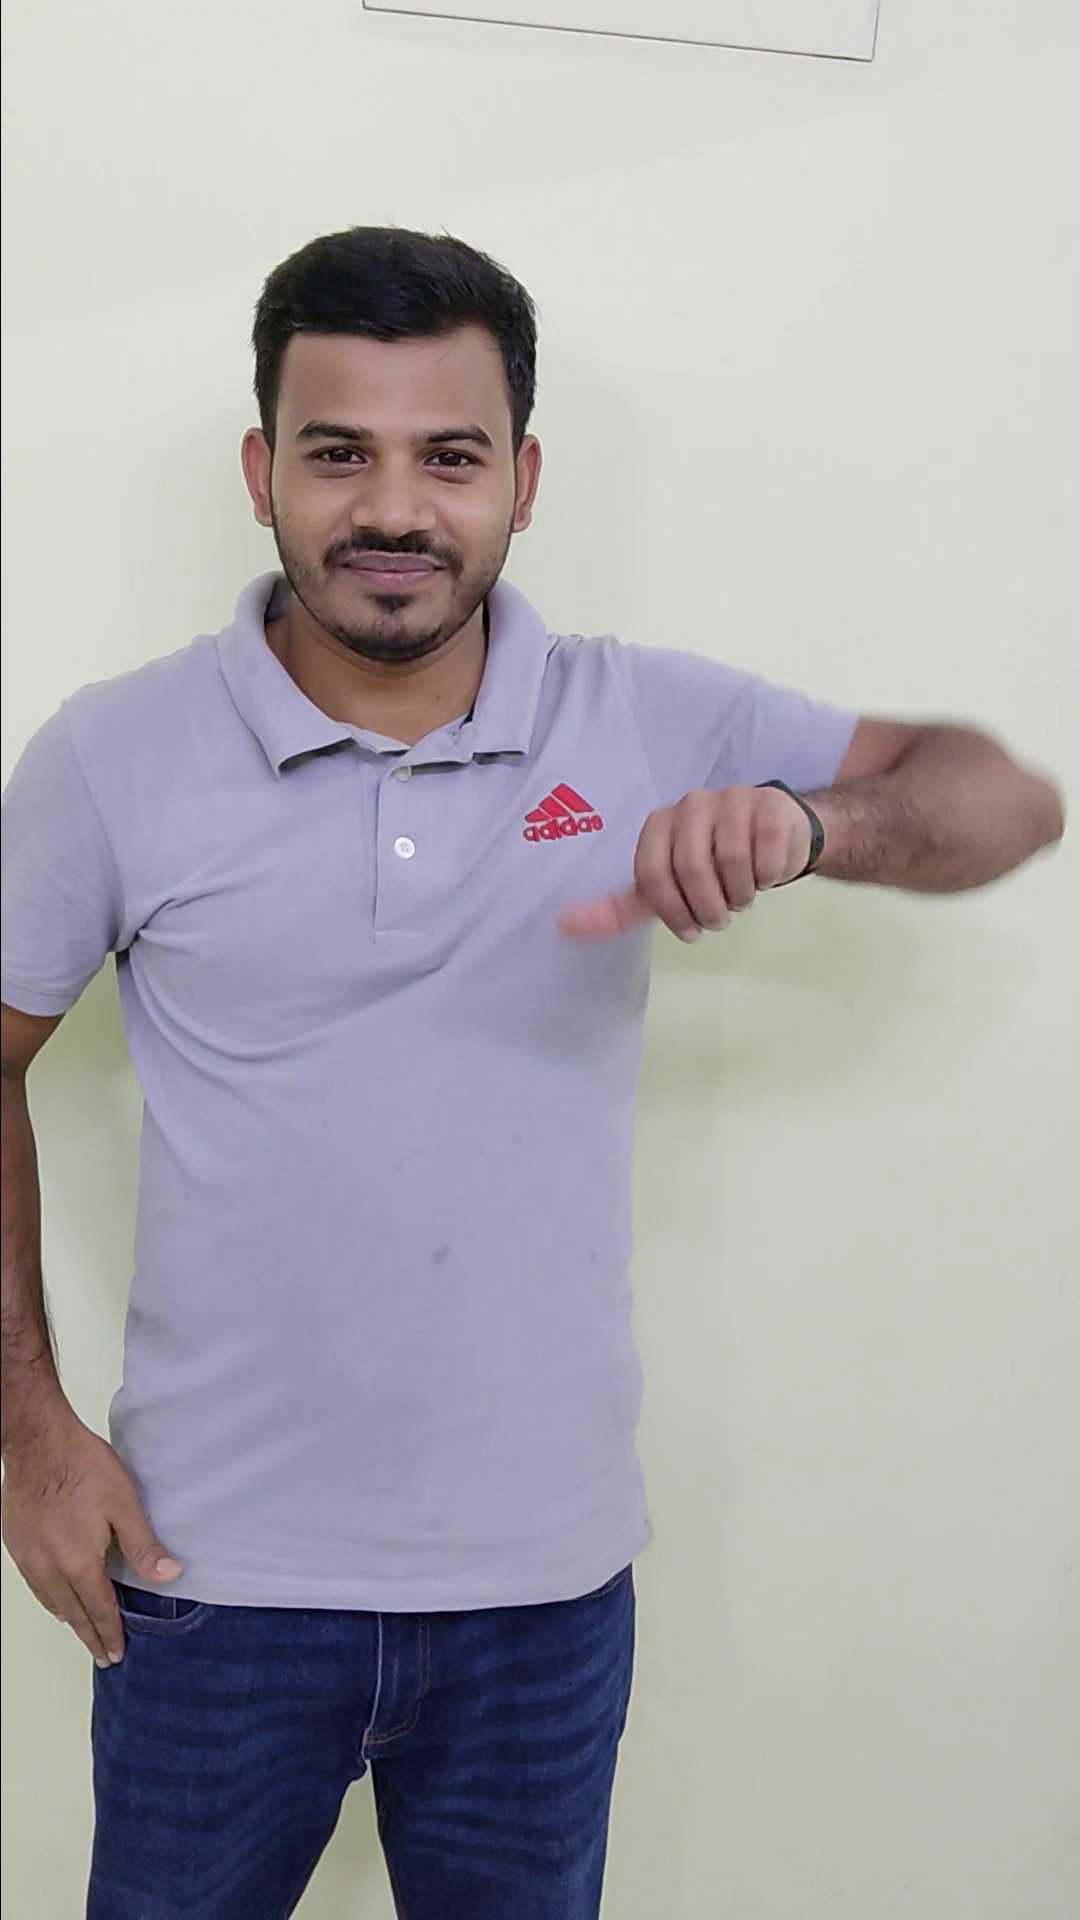Dislike: (530, 744, 843, 1010)
None: (4, 1385, 198, 1673)
